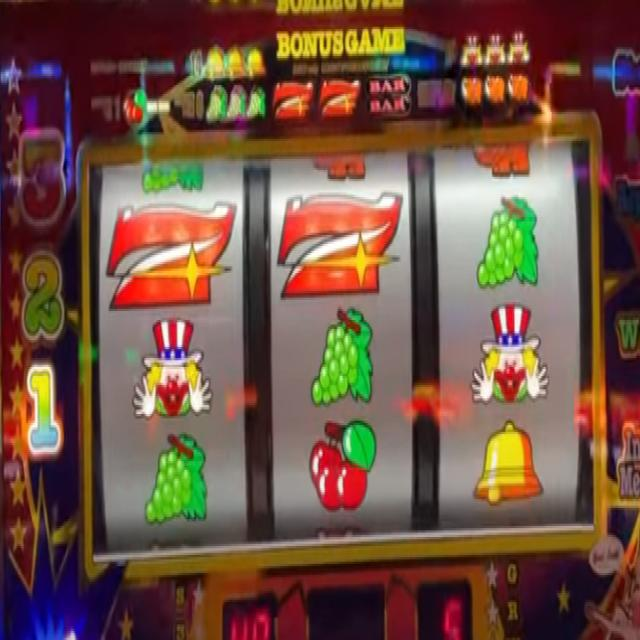bar: (367, 74, 412, 120)
bell: (472, 421, 544, 511), (203, 41, 226, 79), (224, 46, 244, 79), (244, 47, 264, 80)
cherry: (308, 418, 377, 514), (120, 86, 148, 127)
clown: (468, 301, 550, 409), (132, 314, 212, 421), (507, 28, 532, 64), (461, 33, 484, 72), (485, 33, 505, 72)
display: (85, 132, 598, 534)
elephant: (460, 76, 482, 108), (485, 72, 505, 106), (508, 74, 528, 104)
grape: (475, 194, 542, 289), (310, 305, 374, 404), (144, 430, 208, 528), (140, 165, 205, 196), (203, 82, 229, 125), (226, 85, 248, 127), (245, 90, 265, 122)
z: (106, 201, 237, 309), (277, 191, 405, 295), (322, 76, 358, 122), (274, 78, 312, 121)
